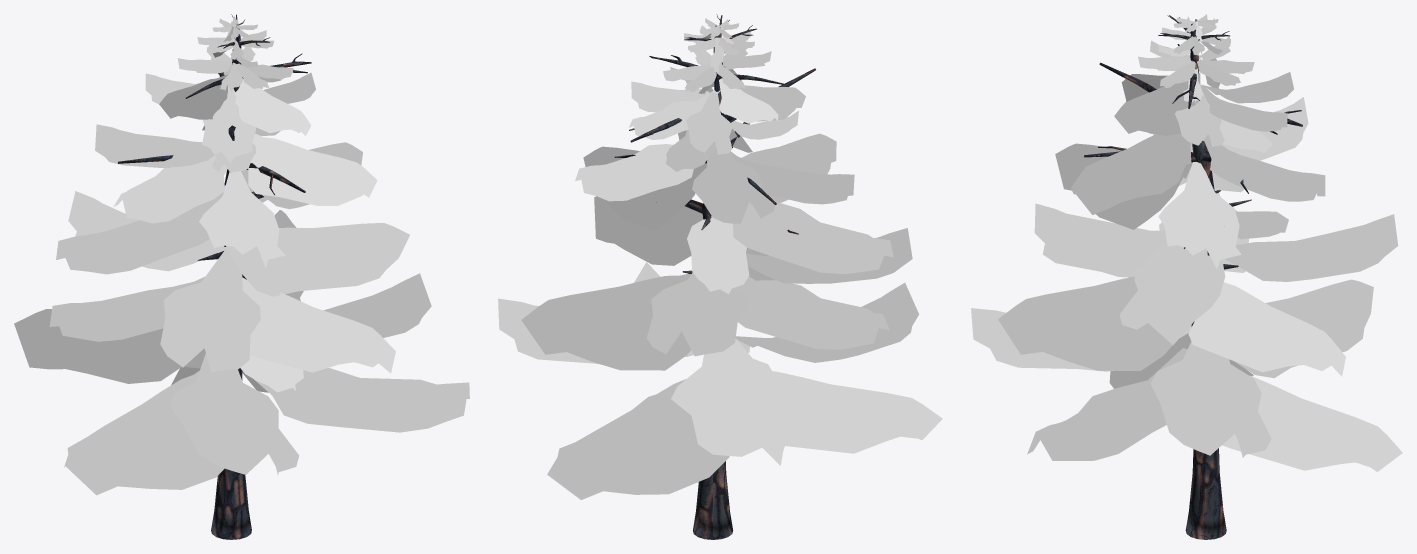
File: Arbre_PinTouffue_1.fbx
The picture shows the model from 3 angles, left to right: view 1: azimuth 30°, elevation 25°; view 2: azimuth 150°, elevation 25°; view 3: azimuth 270°, elevation 25°; orthographic projection.
Visible parts, largest first — view 1: Arbre_PinTouffue_1; view 2: Arbre_PinTouffue_1; view 3: Arbre_PinTouffue_1.
Part boxes in pixels (<box>): Arbre_PinTouffue_1: <box>14,14,469,539</box>; Arbre_PinTouffue_1: <box>498,14,942,539</box>; Arbre_PinTouffue_1: <box>971,14,1402,539</box>.
Size of the model in its own units: 972 by 1177 by 902.
